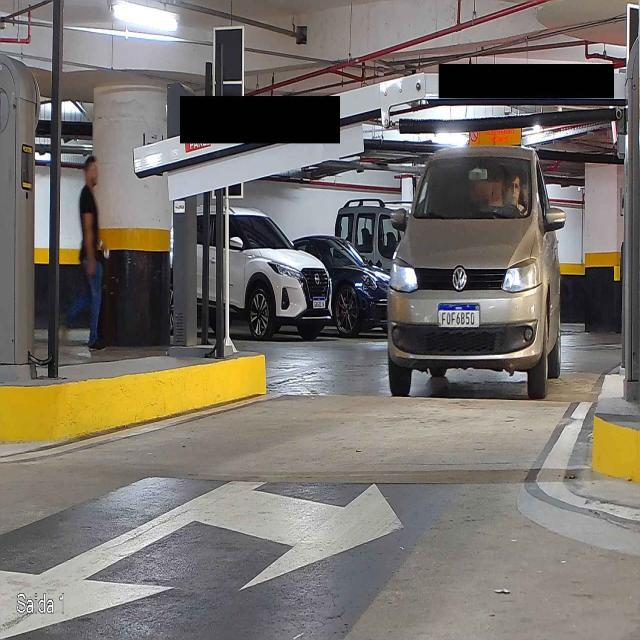mercosul_plate: (436, 302, 481, 329)
